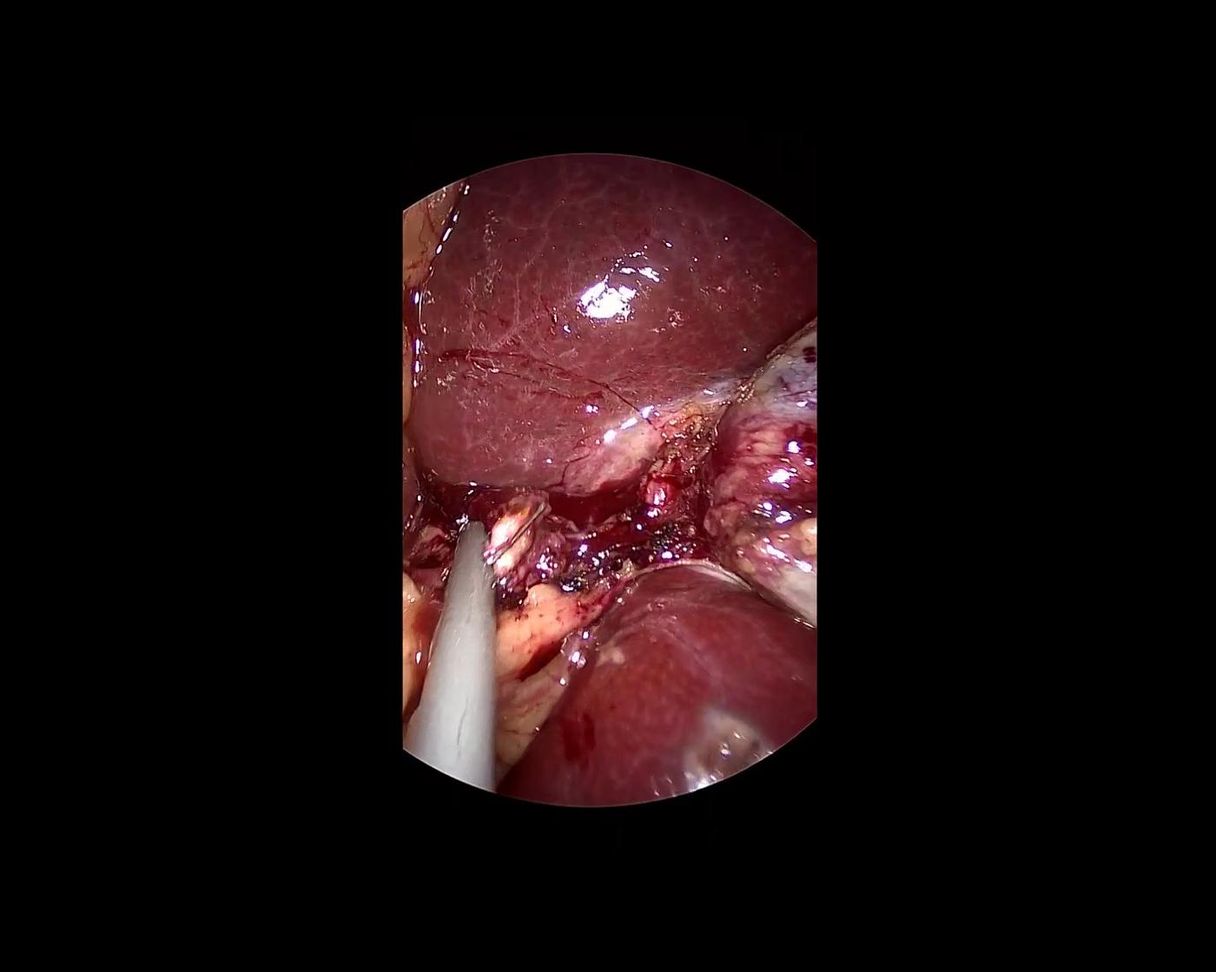Gallbladder: (701, 326, 815, 629)
Liver: (407, 153, 818, 495), (494, 532, 856, 916)
Suction: (401, 522, 497, 793)
